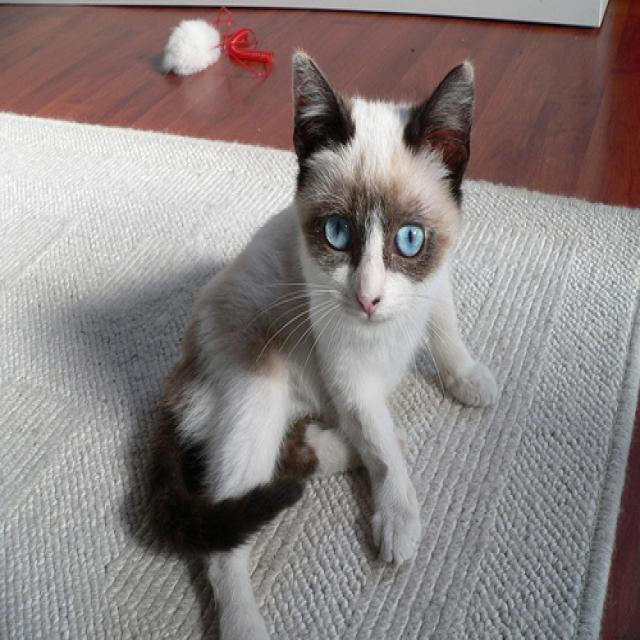left eye: (392, 220, 426, 258)
